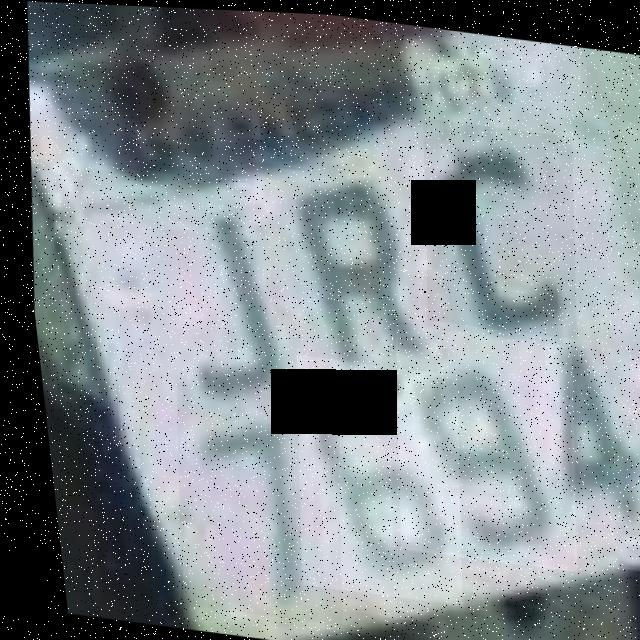4: (497, 291, 640, 535)
6: (267, 351, 469, 602)
7: (148, 380, 348, 623)
8: (368, 319, 584, 568)
9: (361, 319, 581, 565)
C: (403, 113, 587, 335)
J: (136, 184, 308, 428)
R: (254, 162, 450, 382)
